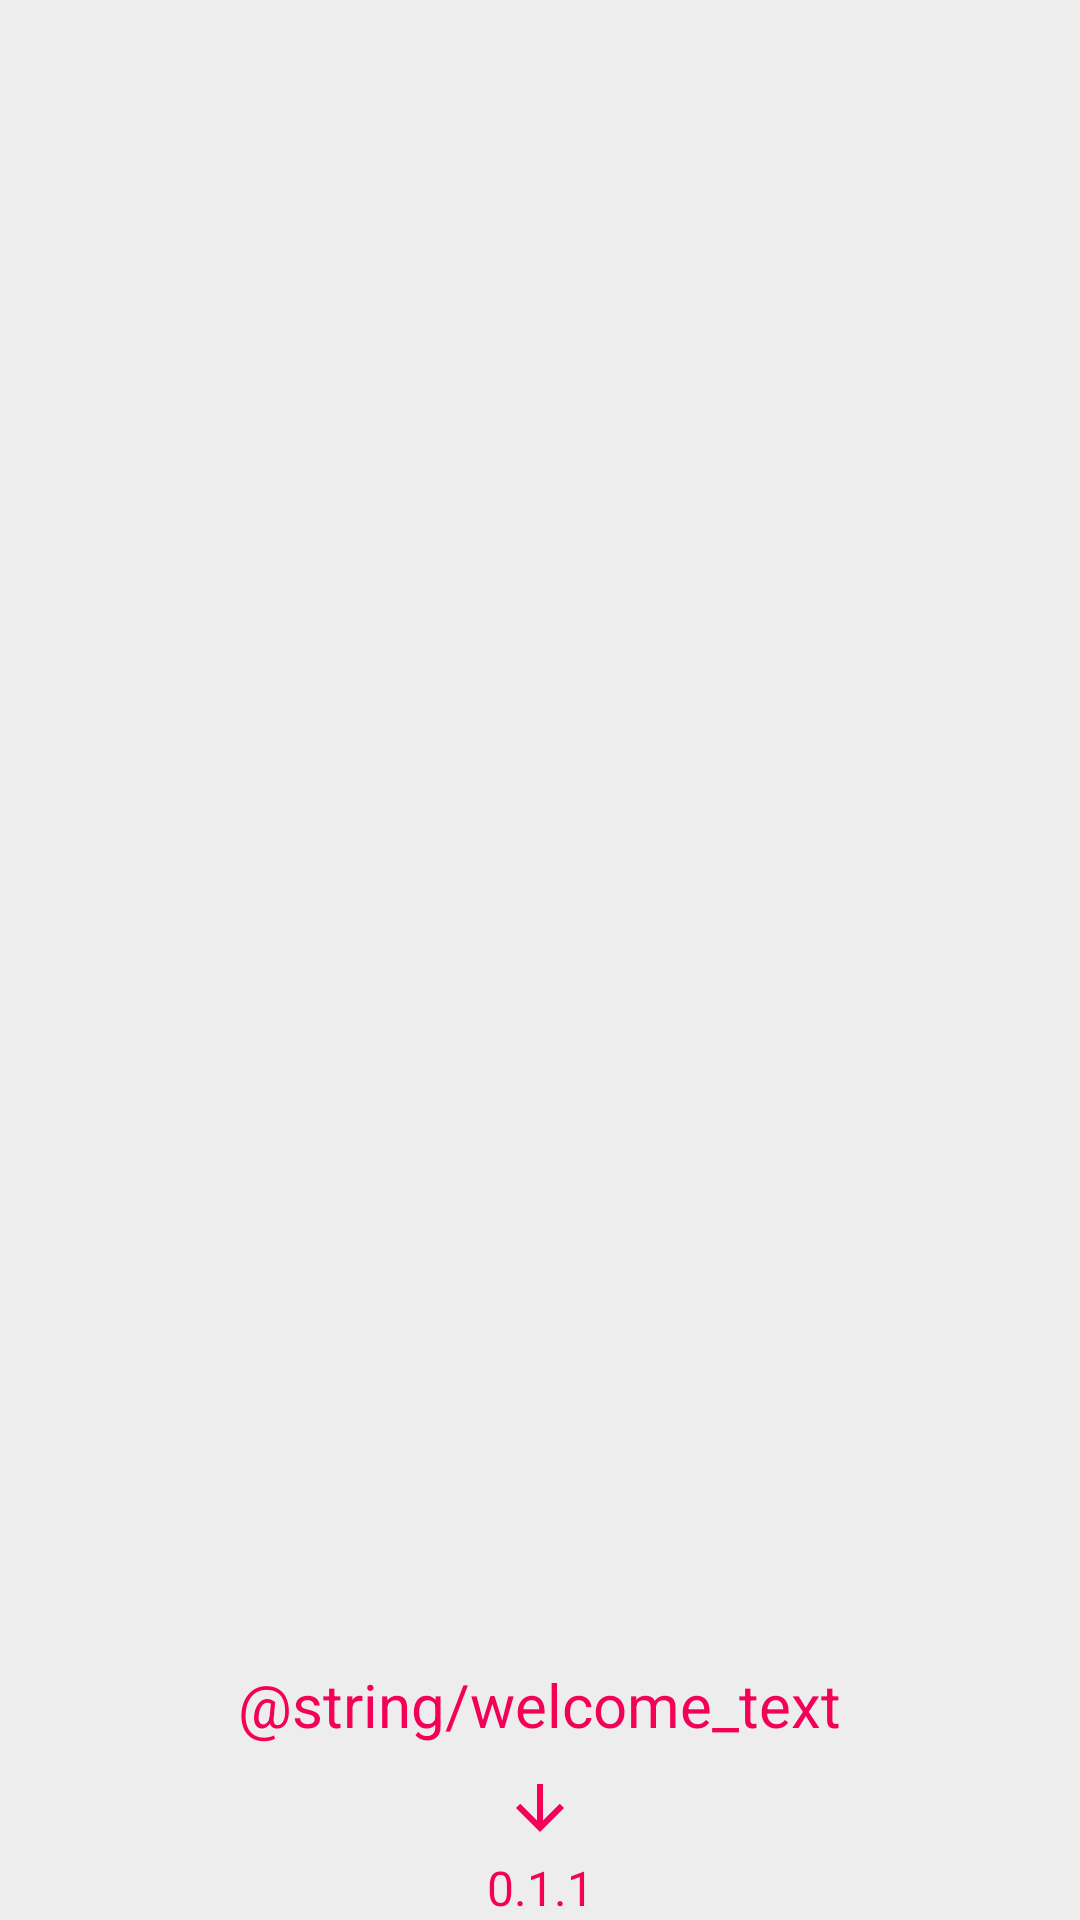

Icon click points for this 1080px x 1920px phone screenshot, format point (x, y):
down arrow: point (540, 1808)
